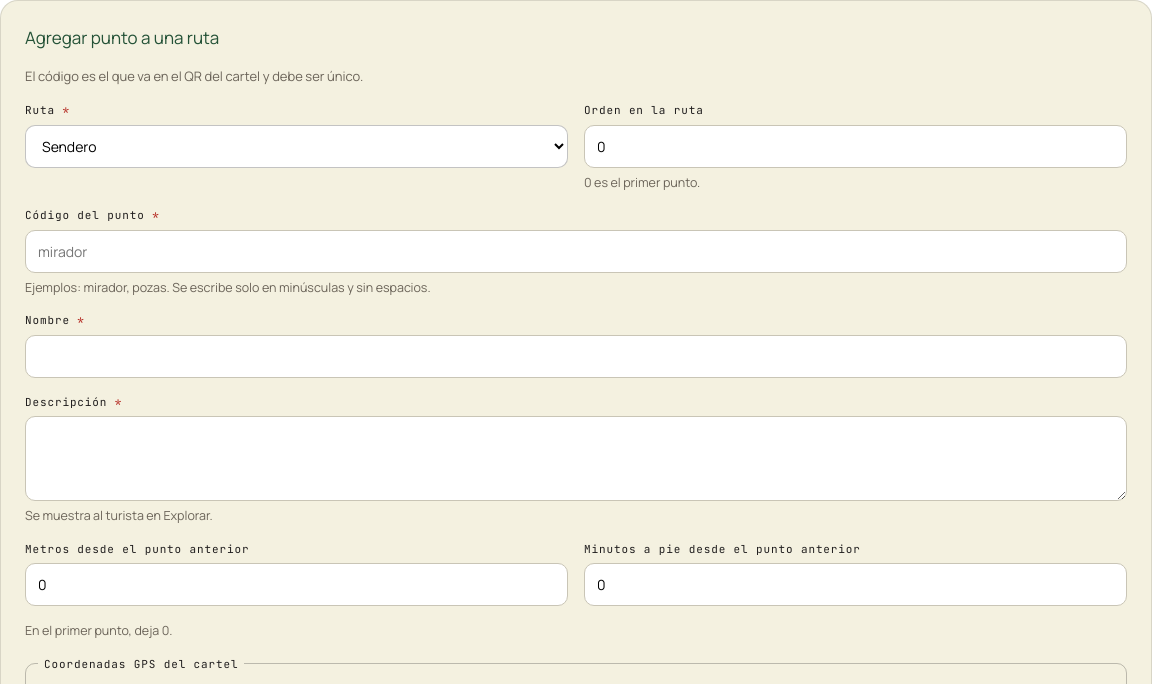
Scenario: RoutePointForm › muestra un error si el código no es válido al enviar
# Un código que empieza con número no es válido.
Type "1punto" into the field with placeholder "mirador". click: (576, 251)
box: [25,230,1127,272]
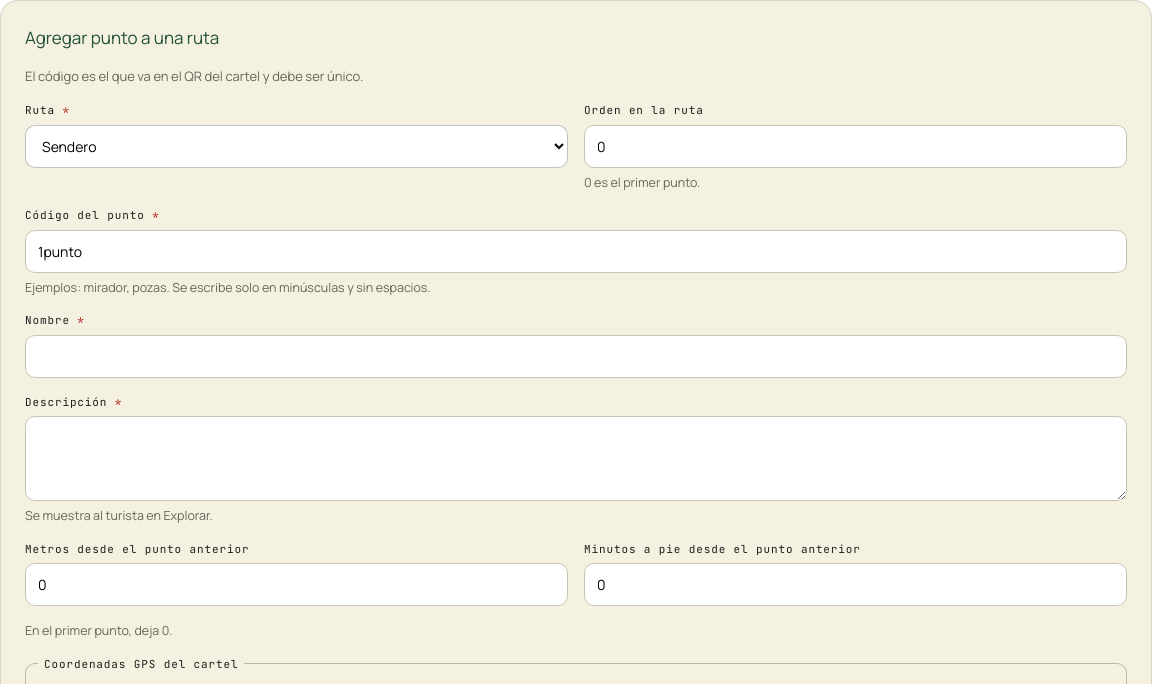
Type "Punto" into the field named "name_es". click: (576, 356)
box: [25,334,1127,378]
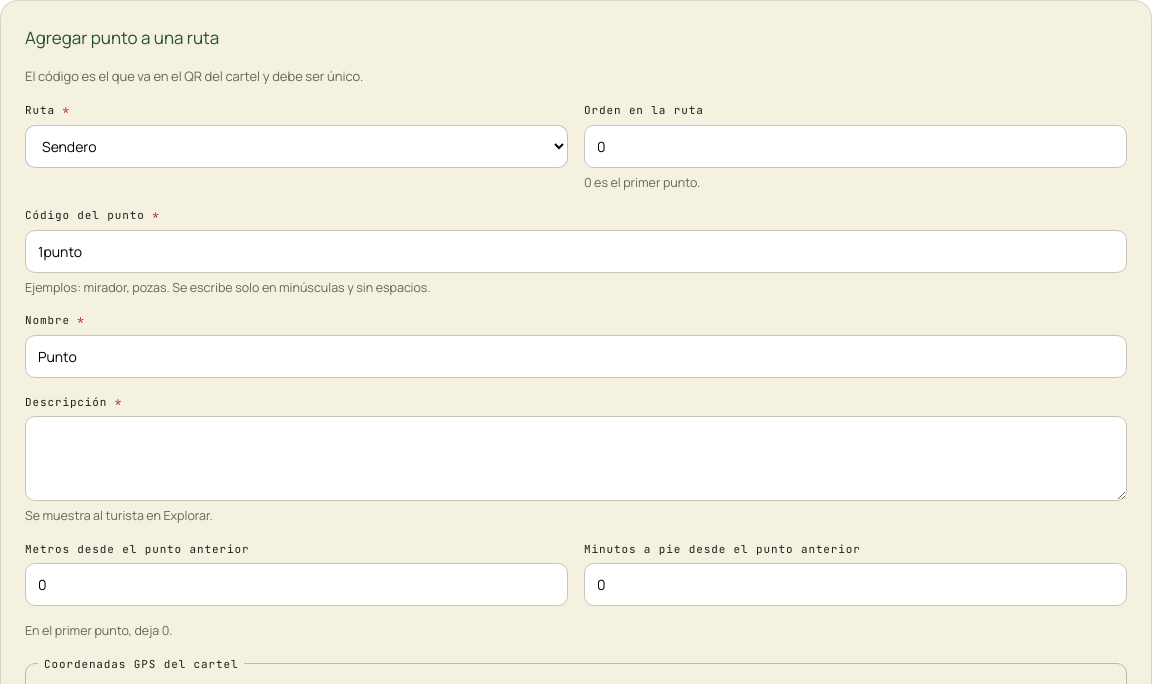
Type "Descripción" into the text box named "description_es". click: (576, 458)
box: [25,416,1127,501]
(page scrolled)
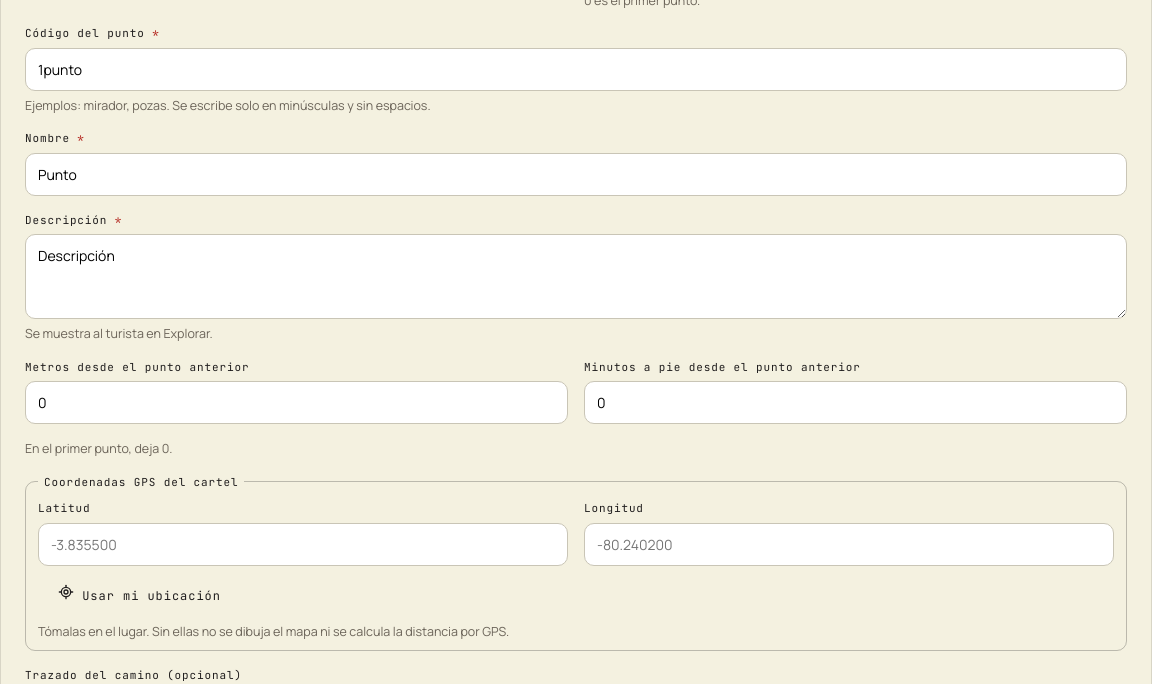
Submit the form
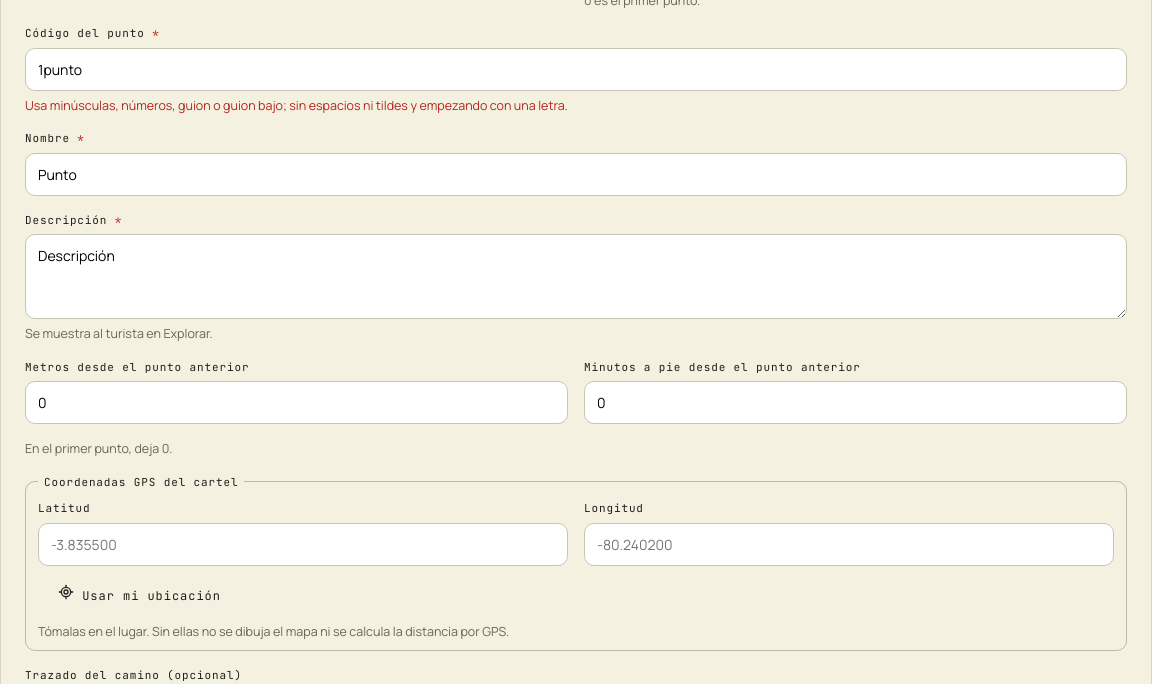
Expected: the text "empezando con una letra" is shown, [25,96,568,114]
